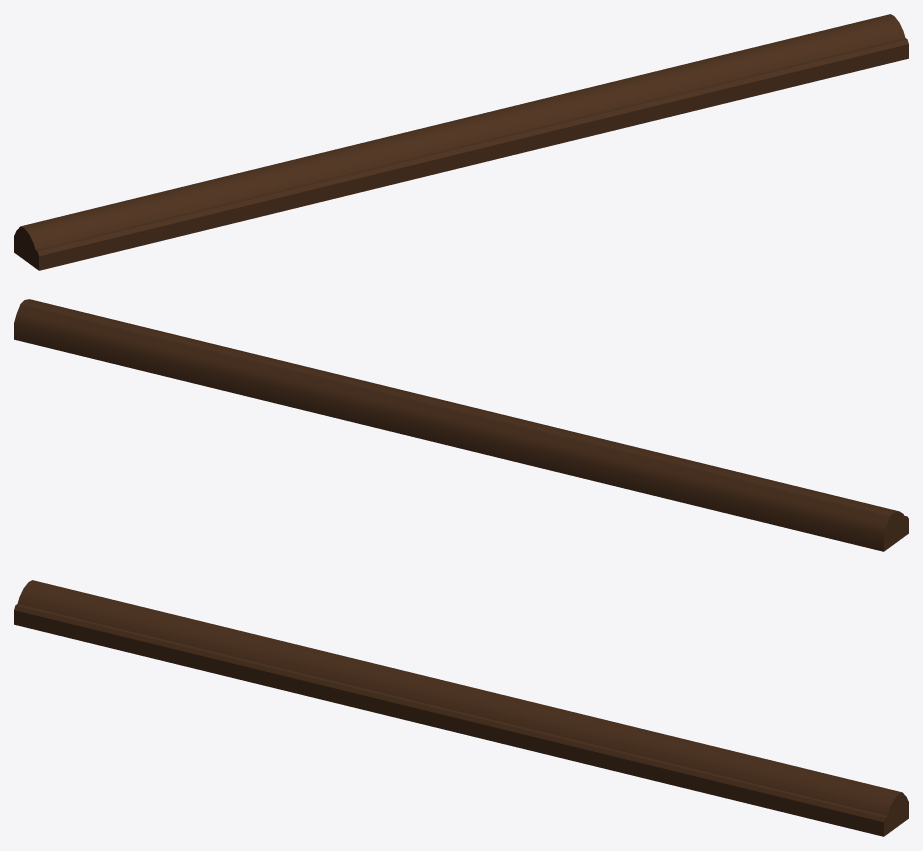
File: frame_bar.fbx
3 renders of one model, top to bottom at view 1: azimuth 30°, elevation 25°; view 2: azimuth 150°, elevation 25°; view 3: azimuth 330°, elevation 25°, orthographic.
Visible parts, largest first — view 1: bar; view 2: bar; view 3: bar.
Boxes of the visible parts, <box> form: bar: <box>14,14,908,270</box>; bar: <box>14,299,908,551</box>; bar: <box>14,580,908,836</box>.
Bounding box in the file's own units: 1 × 0.035 × 0.05.
